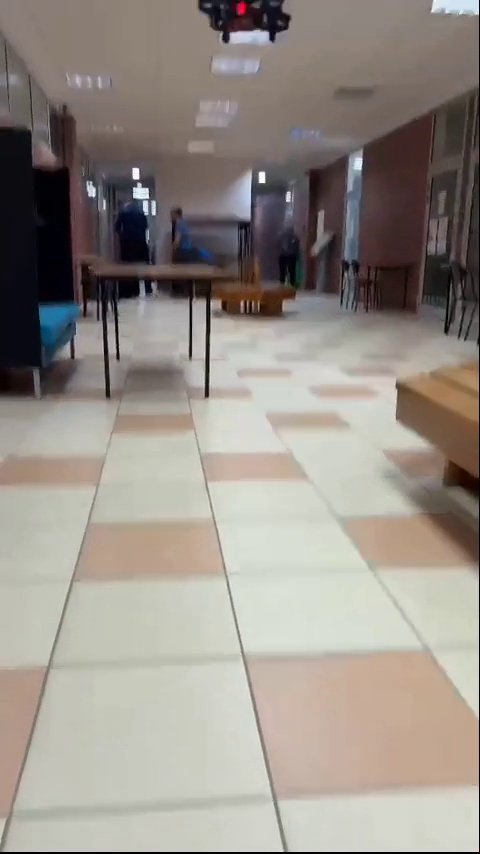drone: (188, 0, 295, 40)
no vest: (170, 198, 219, 265), (114, 195, 156, 270), (276, 220, 307, 294)
